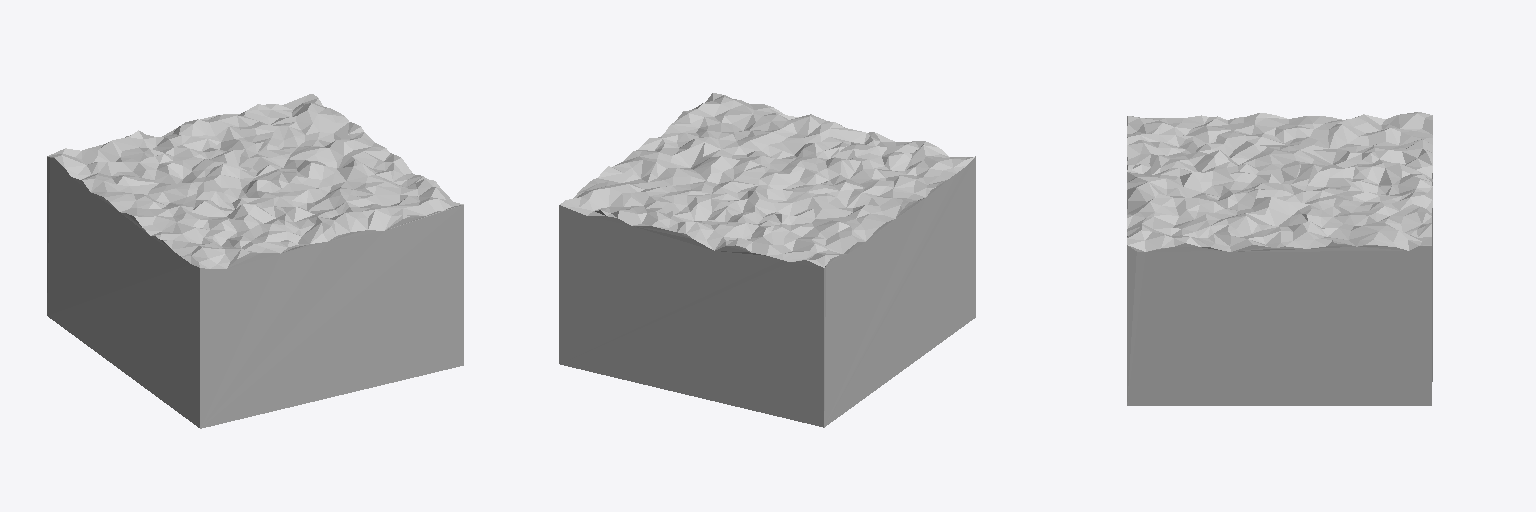
The model's file is water_000004.obj.
3 renders of one model, left to right at view 1: azimuth 30°, elevation 25°; view 2: azimuth 150°, elevation 25°; view 3: azimuth 270°, elevation 25°, orthographic.
Visible parts, largest first — view 1: Plane; view 2: Plane; view 3: Plane.
Boxes of the visible parts, x1=… form: Plane: x1=47, y1=94, x2=463, y2=428; Plane: x1=559, y1=93, x2=975, y2=427; Plane: x1=1127, y1=112, x2=1432, y2=405.
Size of the model in its own units: 16.15 by 9.98 by 16.12.